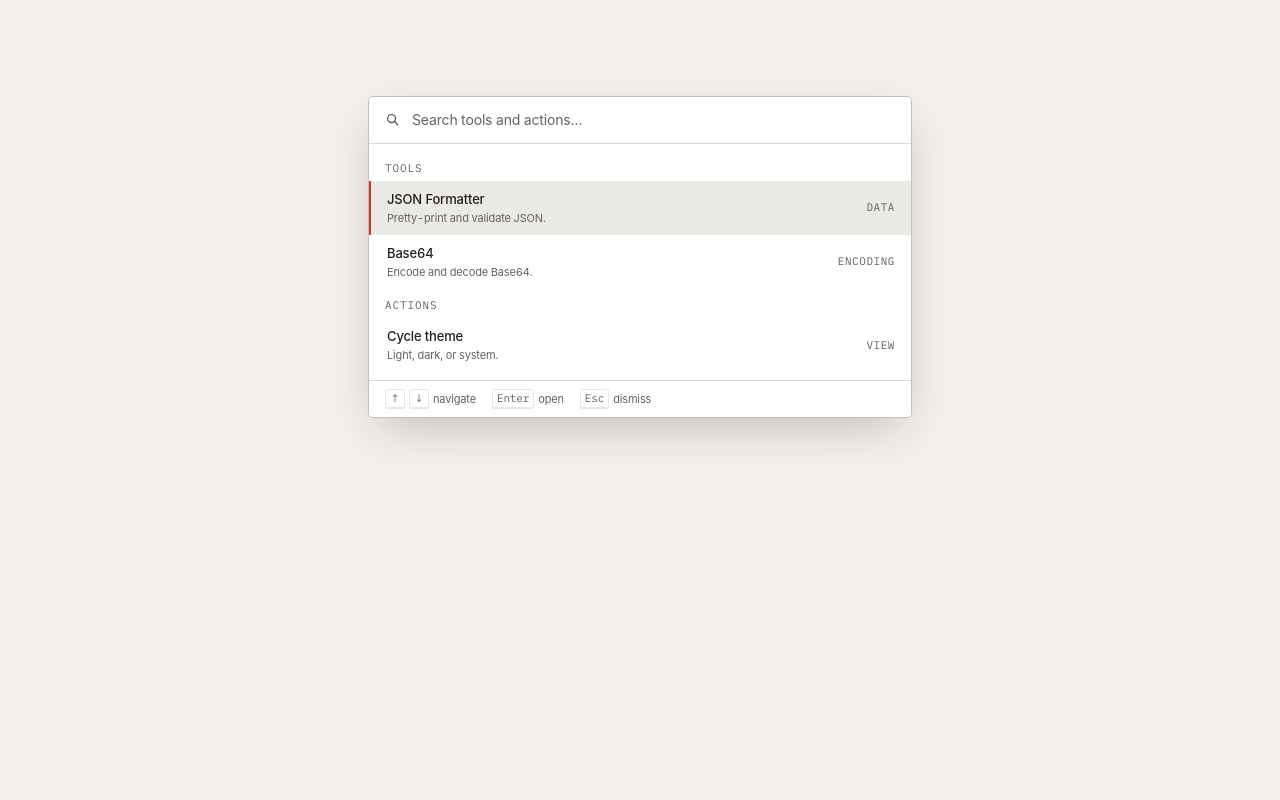
Test case: CommandPalette › explains an empty result rather than showing a blank list
In the dropdown: (654, 120) [412,109,895,131], type "zzzzz"
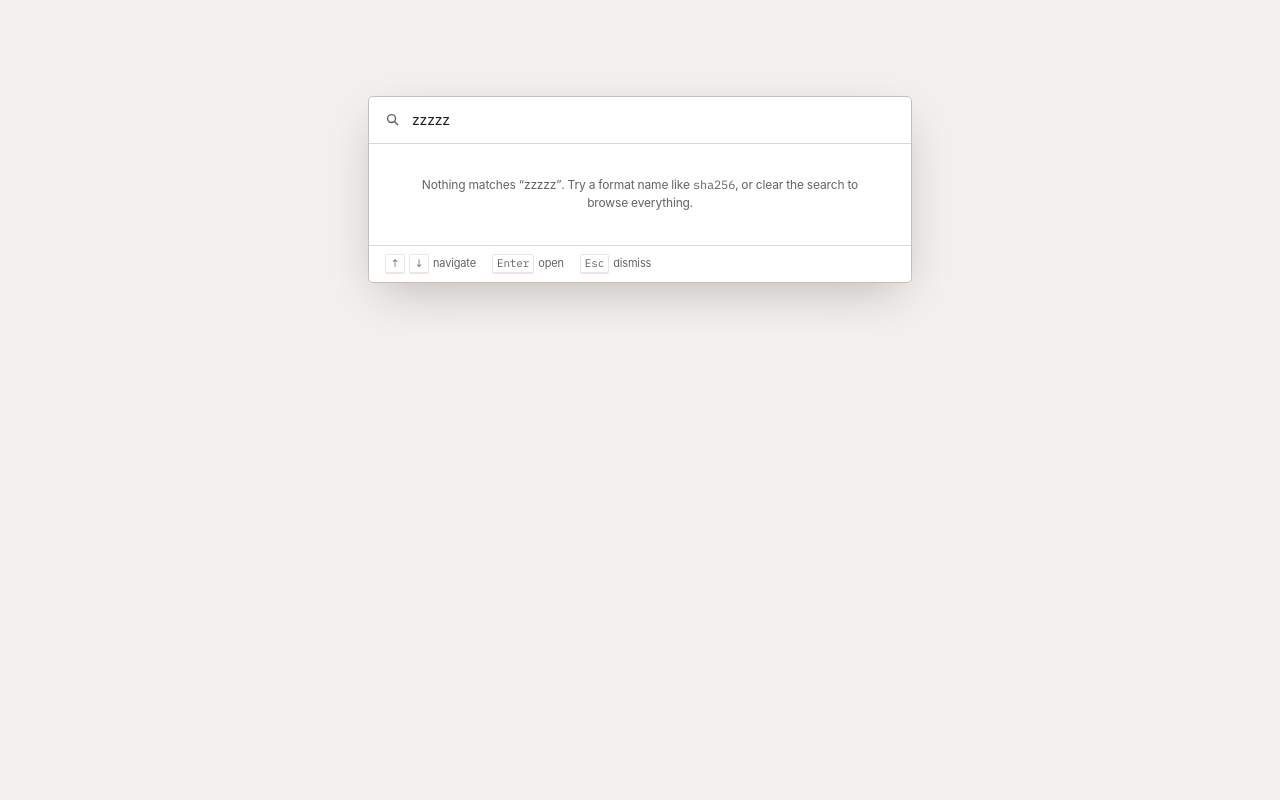
Expected: the text "Nothing matches" is shown, [422,177,524,192]
Expected: the list is gone
